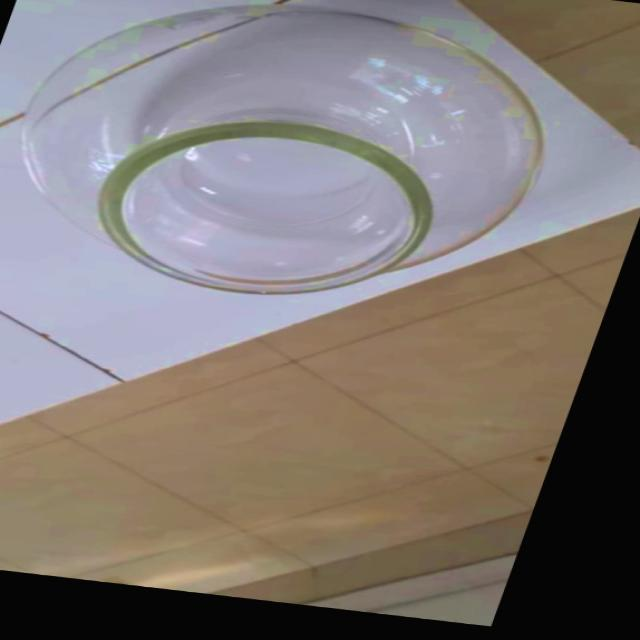Round Bottom Flask: (0, 0, 604, 330)
